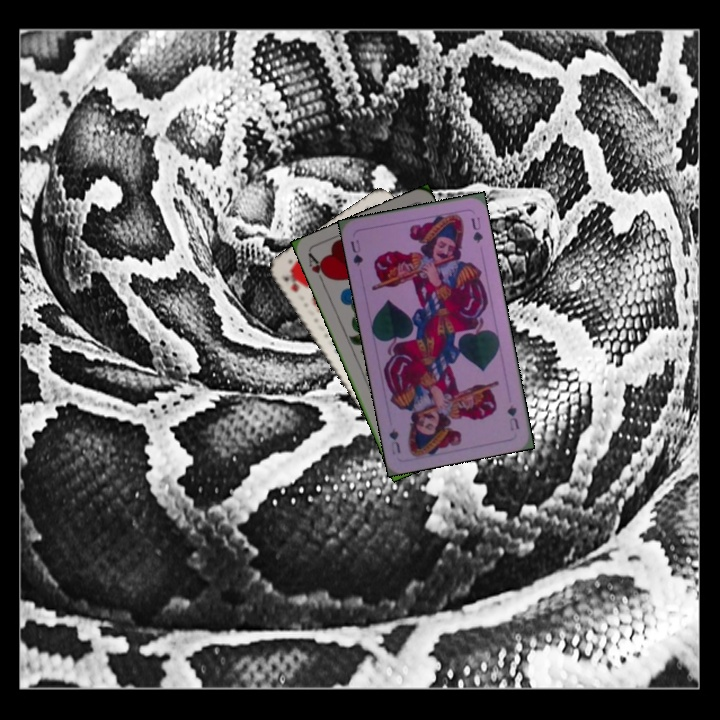GU: (346, 236, 366, 268), (503, 401, 522, 433)
HA: (304, 250, 332, 289)
HK: (279, 267, 302, 294)
